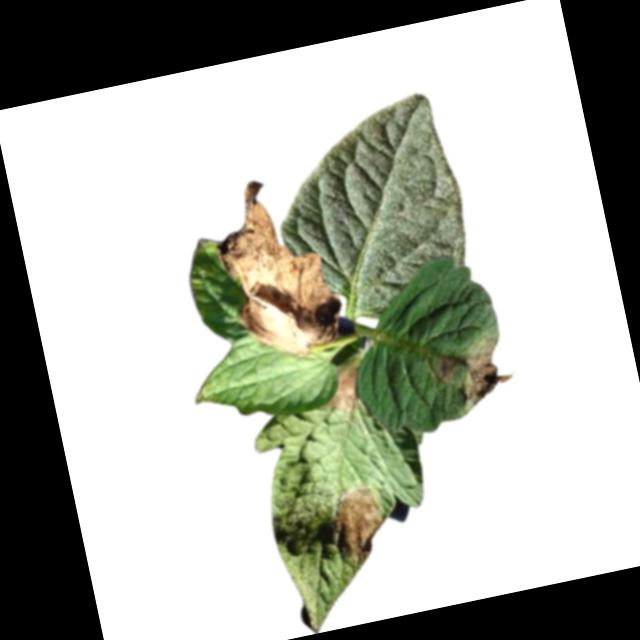Late_blight: (205, 167, 349, 370), (319, 478, 394, 570), (448, 329, 516, 414), (315, 358, 368, 418), (430, 353, 457, 385)
